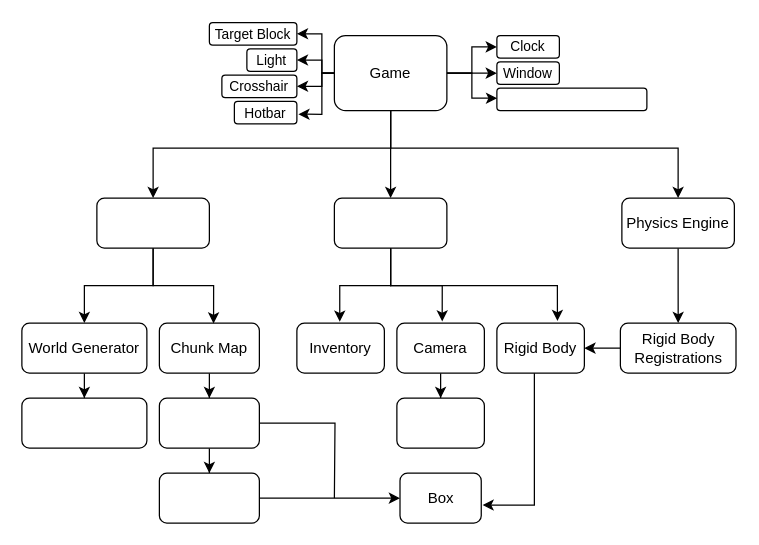
Image size: 759x545. Some labels were removed from this diagram. Here are the shapes that lost their labels. From the top down, the centre of each, then its label:
pixel 571 99: Resource Managers
pixel 152 222: World
pixel 390 222: Player
pixel 84 422: Noise Generator
pixel 208 422: Chunk
pixel 440 422: Ray
pixel 208 497: Block
